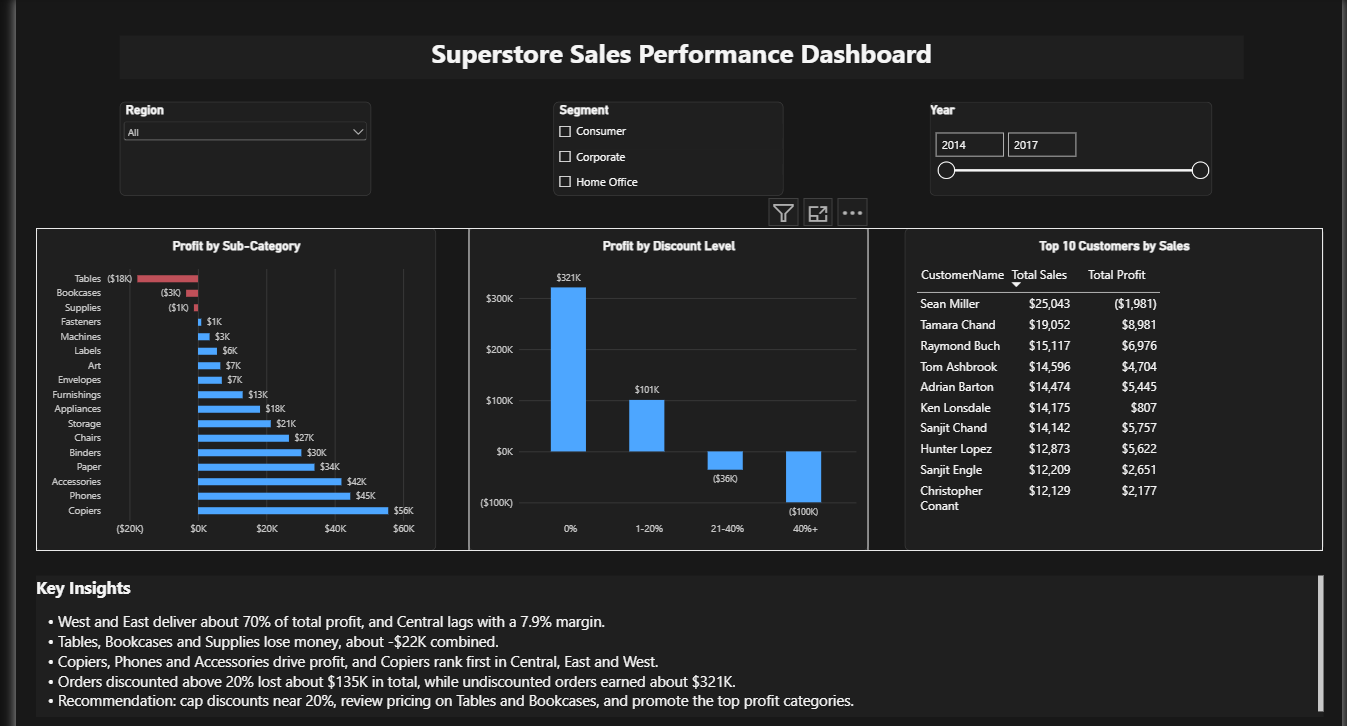

What the dashboard file says about the page in this screenshot:
{"tool":"powerbi","page":{"name":"Deep Dive","canvas":[1920,1080],"ordinal":1},"visuals":[{"type":"slicer","fields":{"Values":["superstore_clean.Region"]},"box":[150.2,150.2,363.7,135.7],"z":0},{"type":"slicer","fields":{"Values":["superstore_clean.Segment"]},"box":[778.2,150.2,333,135.7],"z":1000},{"type":"slicer","title":"Year","fields":{"Values":["superstore_clean.Year"]},"box":[1322.9,150.2,409,135.7],"z":2000},{"type":"textbox","box":[150.2,54.3,1626.9,63.3],"z":3000},{"type":"clusteredBarChart","title":"Profit by Sub-Category","fields":{"Category":["superstore_clean.SubCategory"],"Y":["superstore_clean.Total Profit"]},"box":[29,333,579.1,466.9],"z":4000,"group":"g1"},{"type":"columnChart","title":"Profit by Discount Level","fields":{"Category":["superstore_clean.Discount Band"],"Y":["superstore_clean.Total Profit"]},"box":[655.1,333,579.1,466.9],"z":5000,"group":"g1"},{"type":"tableEx","title":"Top 10 Customers by Sales","fields":{"Values":["superstore_clean.CustomerName","superstore_clean.Total Sales","superstore_clean.Total Profit"]},"box":[1286.7,333,606.2,466.9],"z":6000,"group":"g1"},{"type":"group","id":"g1","title":"Group 1","box":[29,333,1864,466.9],"z":6002},{"type":"textbox","box":[29,836.1,1864,204.5],"z":6003}]}

Visuals, with their boxes on the page's 1920x1080 design canvas (x1, y1, x2, y2). These are canvas units, not pixel positions in the 1347x726 screenshot, which may show the page scaled, cropped or inside an application window:
slicer - superstore_clean.Region: bbox=(150, 150, 514, 286)
slicer - superstore_clean.Segment: bbox=(778, 150, 1111, 286)
"Year" slicer: bbox=(1323, 150, 1732, 286)
textbox: bbox=(150, 54, 1777, 118)
"Profit by Sub-Category" clusteredBarChart: bbox=(29, 333, 608, 800)
"Profit by Discount Level" columnChart: bbox=(655, 333, 1234, 800)
"Top 10 Customers by Sales" tableEx: bbox=(1287, 333, 1893, 800)
"Group 1" group: bbox=(29, 333, 1893, 800)
textbox: bbox=(29, 836, 1893, 1041)
